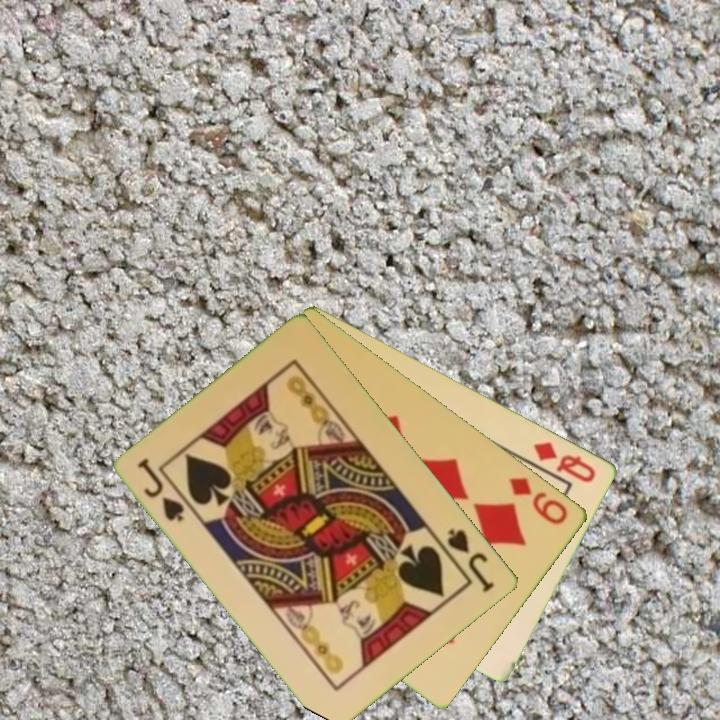9d: (506, 473, 571, 528)
Js: (134, 454, 188, 525), (444, 525, 498, 595)
Qd: (530, 438, 599, 486)
